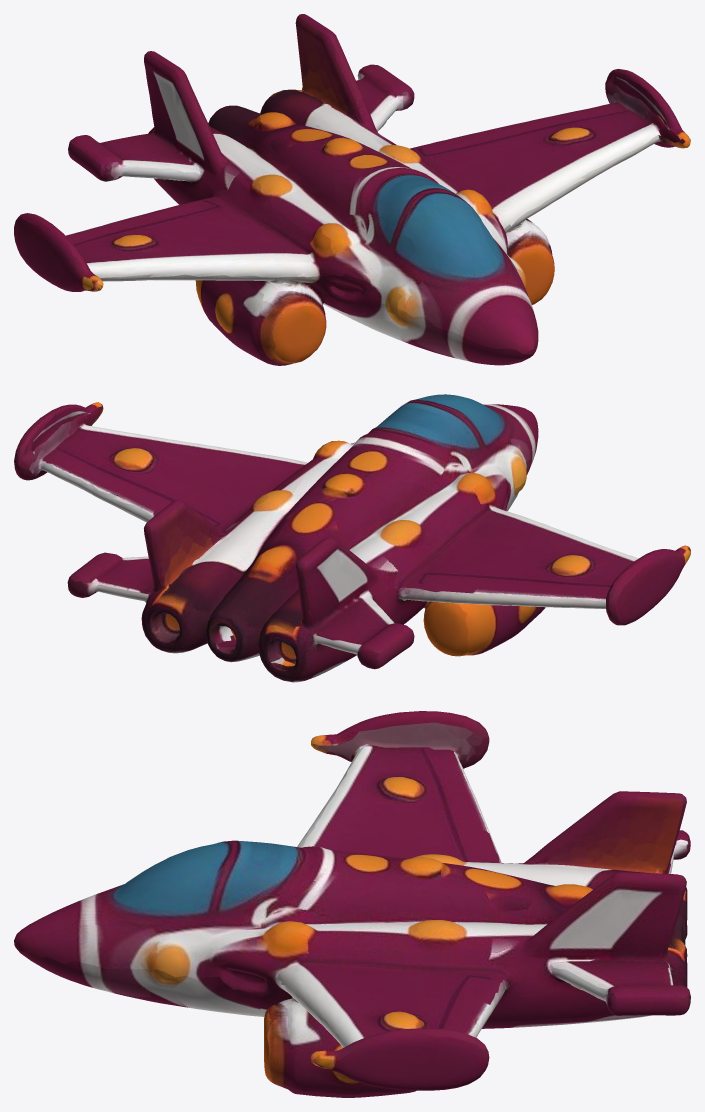
File: pallas_jet.glb
3 views of the same model, one above another, from view 1: azimuth 30°, elevation 25°; view 2: azimuth 150°, elevation 25°; view 3: azimuth 270°, elevation 25° (orthographic). The views are drawn at different scales.
Visible parts, largest first — view 1: pallas_jet_b; view 2: pallas_jet_b; view 3: pallas_jet_b.
Boxes of the visible parts, x1,y1,x2,y2 form: pallas_jet_b: [14, 14, 690, 365]; pallas_jet_b: [14, 394, 690, 682]; pallas_jet_b: [14, 711, 690, 1097].
Bounding box in the file's own units: 1 × 0.2847 × 0.8767.
1 material, 1 textured.
